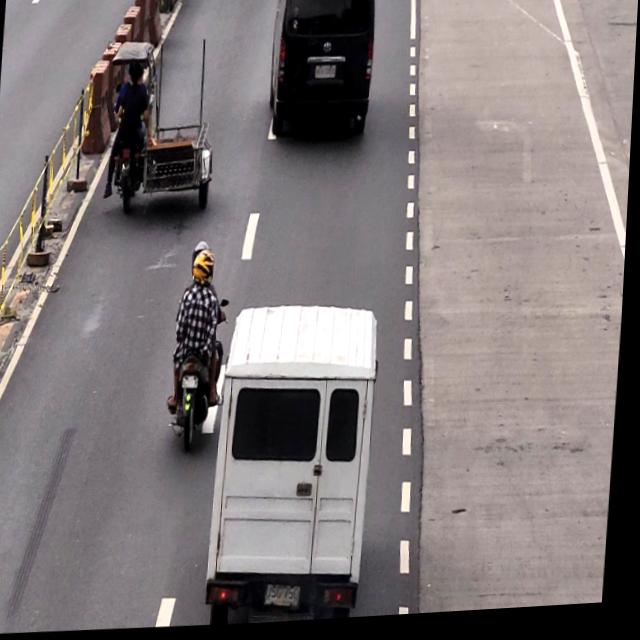Car: (217, 304, 389, 625), (266, 0, 377, 151)
License-Plate: (269, 585, 310, 617), (314, 64, 338, 84)
Motorcycle: (172, 248, 226, 451)
Tricycle: (108, 36, 216, 216)
